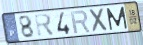4: (57, 11, 72, 37)
8: (18, 15, 35, 39)
M: (105, 6, 129, 32)
R: (69, 9, 92, 35), (34, 13, 56, 39)
X: (88, 7, 110, 34)
